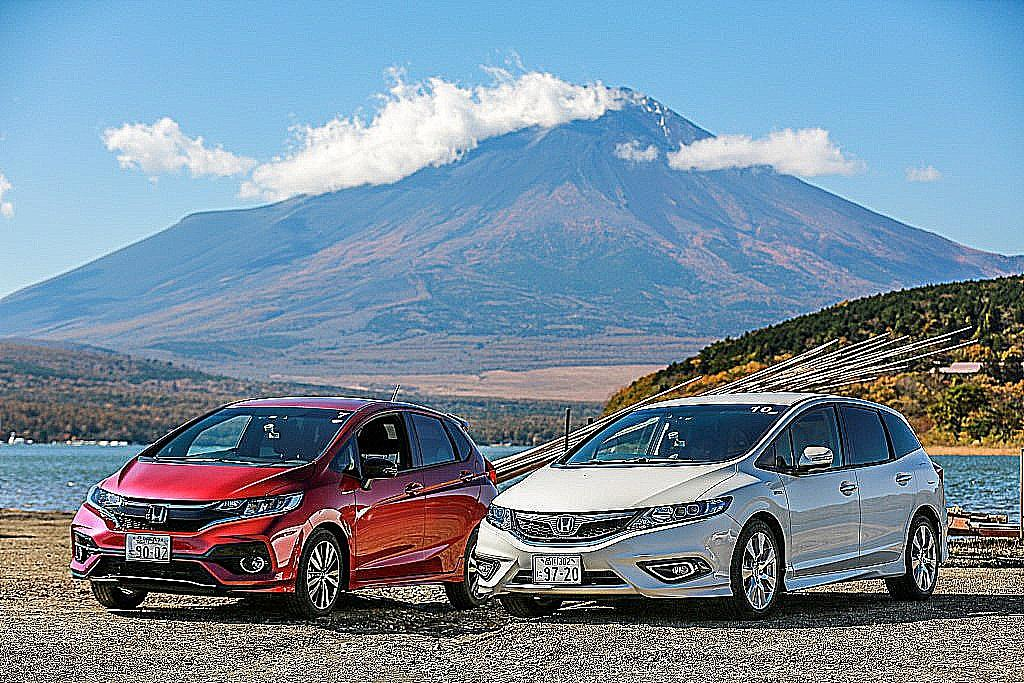Car hood: (488, 460, 742, 515), (92, 449, 318, 509)
Fender - -F-L-: (696, 456, 795, 596), (296, 446, 360, 591)
Fender - -R-L-: (901, 465, 947, 575)
Front bumper: (465, 523, 745, 612), (60, 519, 309, 619)
Headlight - -L-: (196, 486, 310, 543), (618, 493, 741, 536)
Headlight - -R-: (76, 485, 132, 518), (475, 499, 527, 534)
Passenger-s door - -F-L-: (787, 397, 859, 576), (356, 403, 426, 574)
Passenger-s door - -R-L-: (858, 403, 920, 569), (424, 410, 484, 573)
Rear bumper: (937, 502, 958, 572)
Rear light - -L-: (477, 452, 509, 490), (926, 455, 957, 494)
Side bumper - -L-: (777, 554, 921, 596), (345, 567, 478, 594)
Side mirror - -L-: (355, 451, 405, 489), (792, 443, 837, 482)
